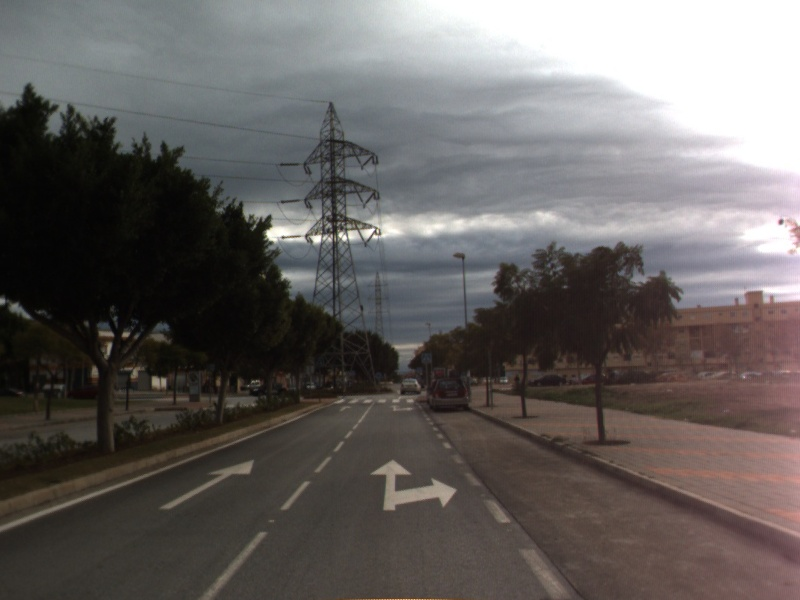STRAIGHT: (156, 458, 256, 512), (337, 403, 354, 413)
STRAIGHT_RIGHT: (368, 457, 460, 513), (388, 403, 416, 413)
